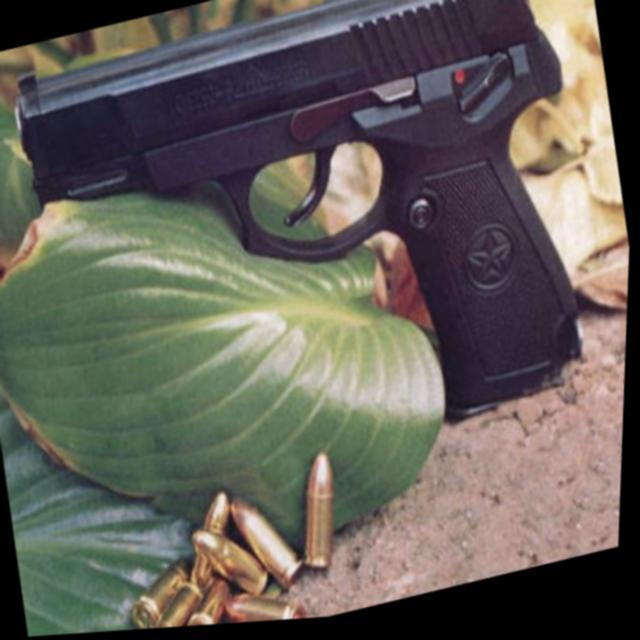weapon: (0, 0, 619, 517)
